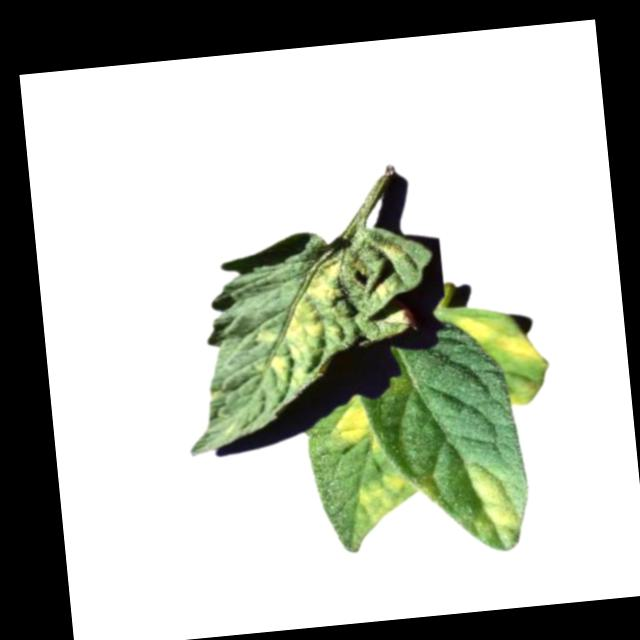Leaf_Mold: (249, 250, 361, 388), (343, 468, 427, 550), (452, 304, 548, 375), (465, 458, 528, 553), (327, 395, 384, 462)
